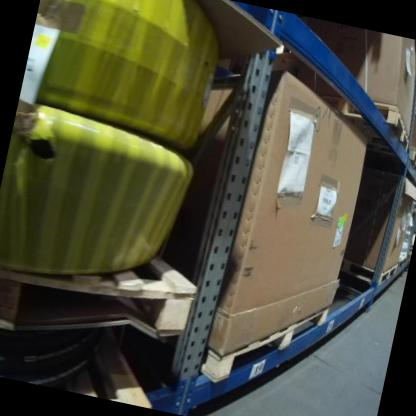pallet: (0, 219, 198, 363), (200, 276, 334, 404), (299, 86, 416, 154), (337, 249, 401, 293), (405, 146, 416, 173)
